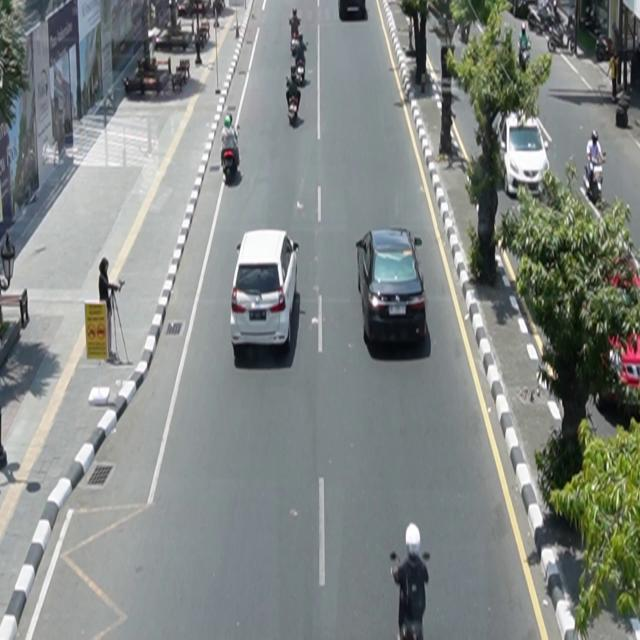car: (231, 229, 300, 354), (357, 227, 428, 347), (492, 108, 552, 199)
